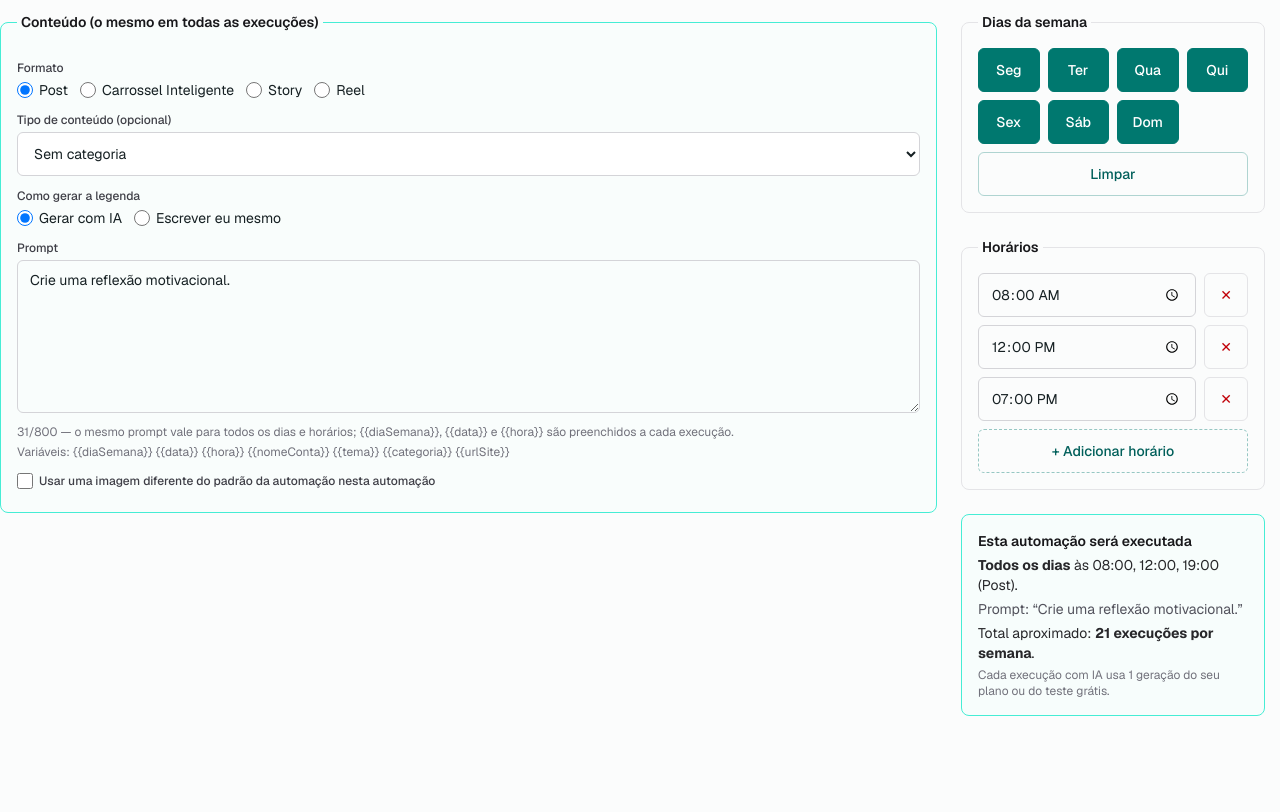
it: SharedPromptEditor › alterna dias e usa Limpar / Selecionar todos
Click the button with aria-label "Segunda-feira" at (1009, 70), box [978, 48, 1040, 92]
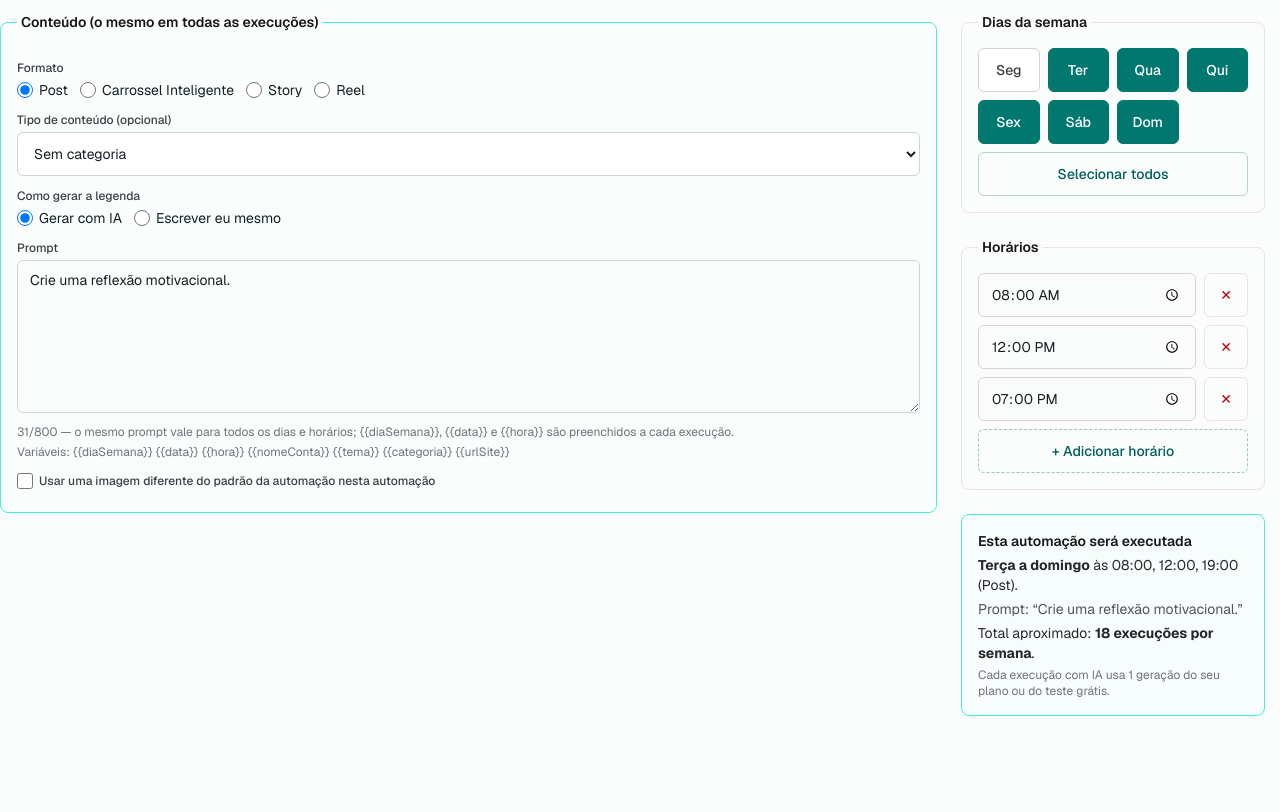
Expected: the text "18 execuções por semana" is shown, [978, 624, 1214, 662]
Click the button "Selecionar todos" at (1113, 174), box [978, 152, 1248, 196]
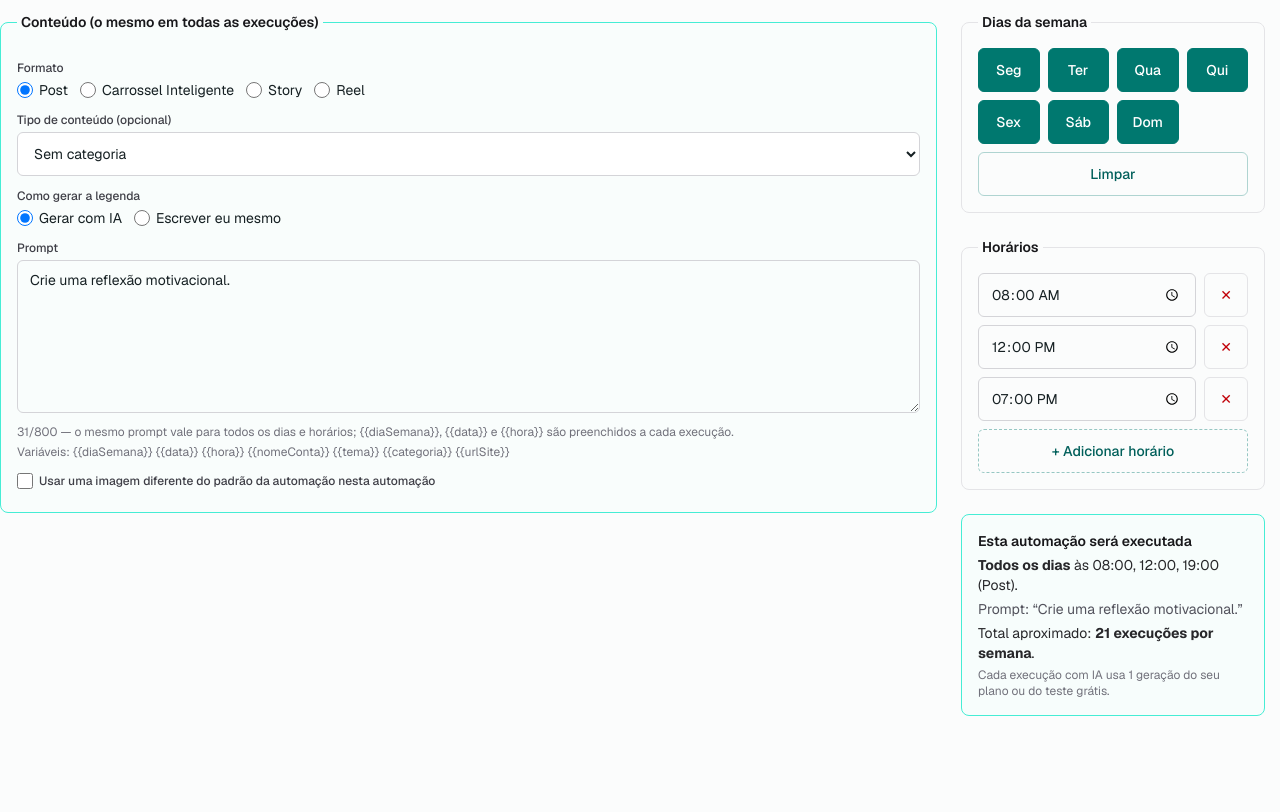
Expected: the text "21 execuções por semana" is shown, [978, 624, 1214, 662]
Click the button "Limpar" at (1113, 174), box [978, 152, 1248, 196]
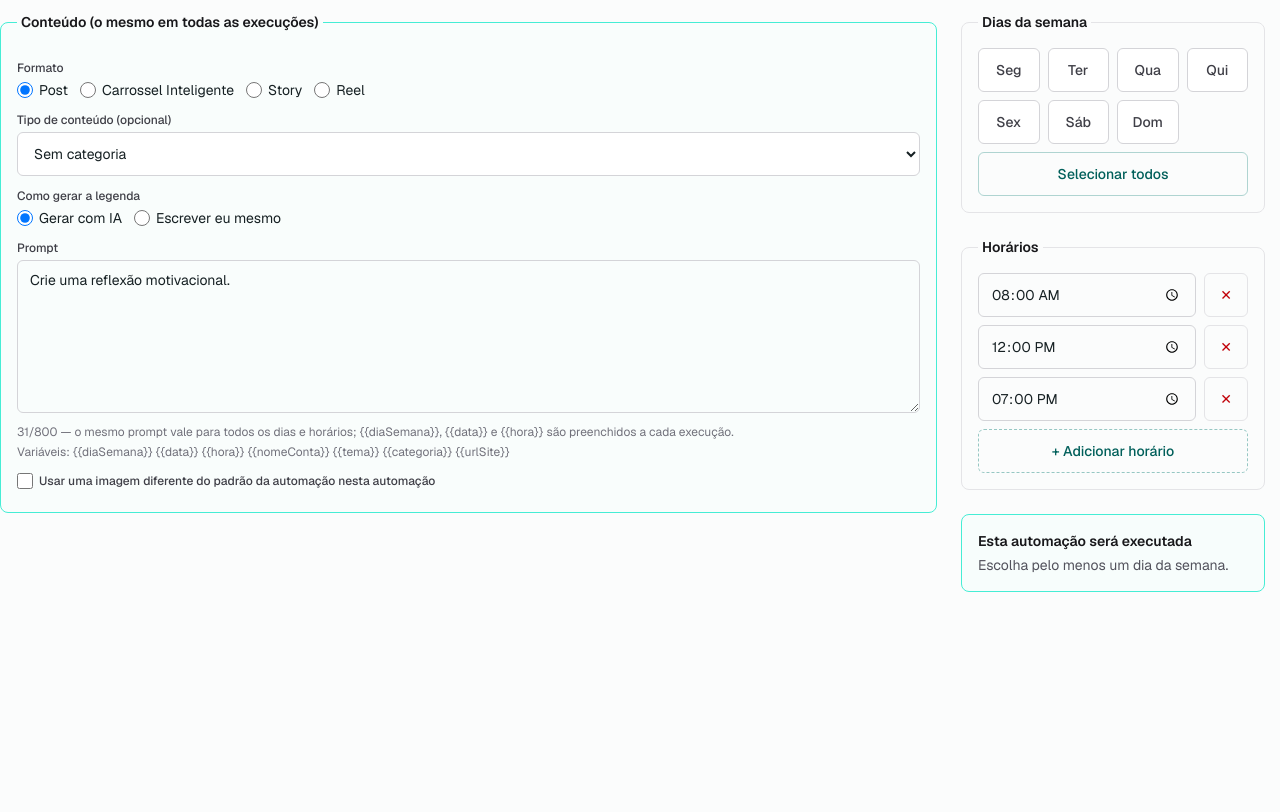
Expected: the text "Escolha pelo menos um dia da semana." is shown, [978, 555, 1248, 575]
